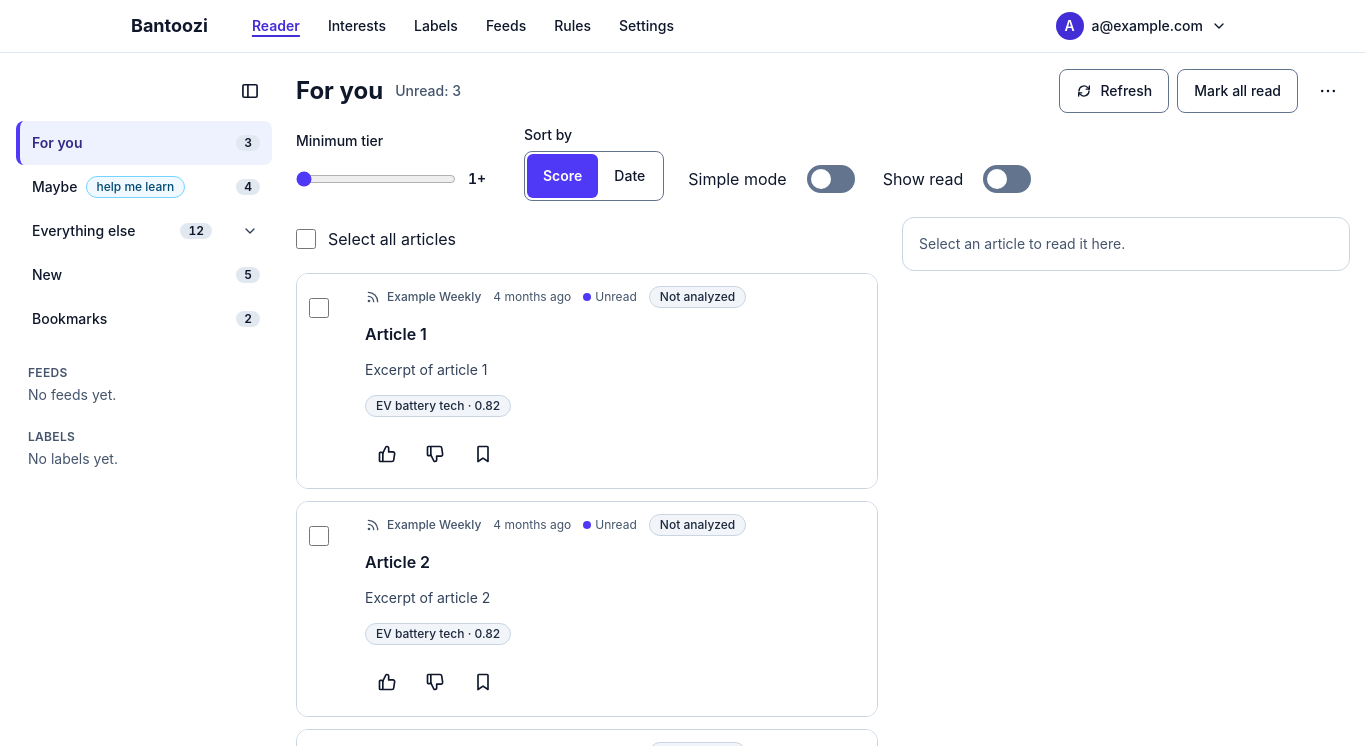
Scenario: Mark all read › confirms with the count, then marks the lane read at the digest of the lane
Click the button "Mark all read".
click(1238, 91)  # box [1177,69,1298,113]
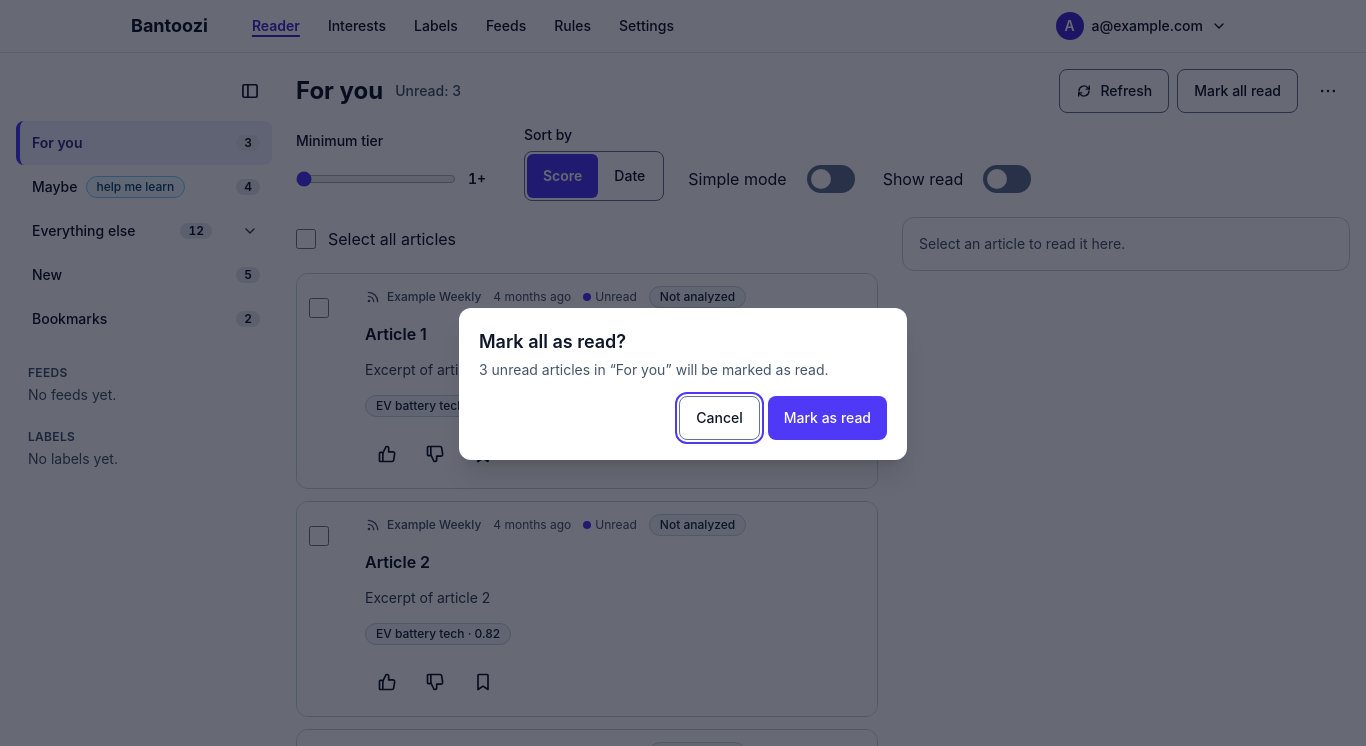
Expected: the text "3 unread articles in “For you” will be marked as read." is shown, [479,360,887,380]
Click the button "Mark as read".
click(827, 418)  # box [768,396,887,440]
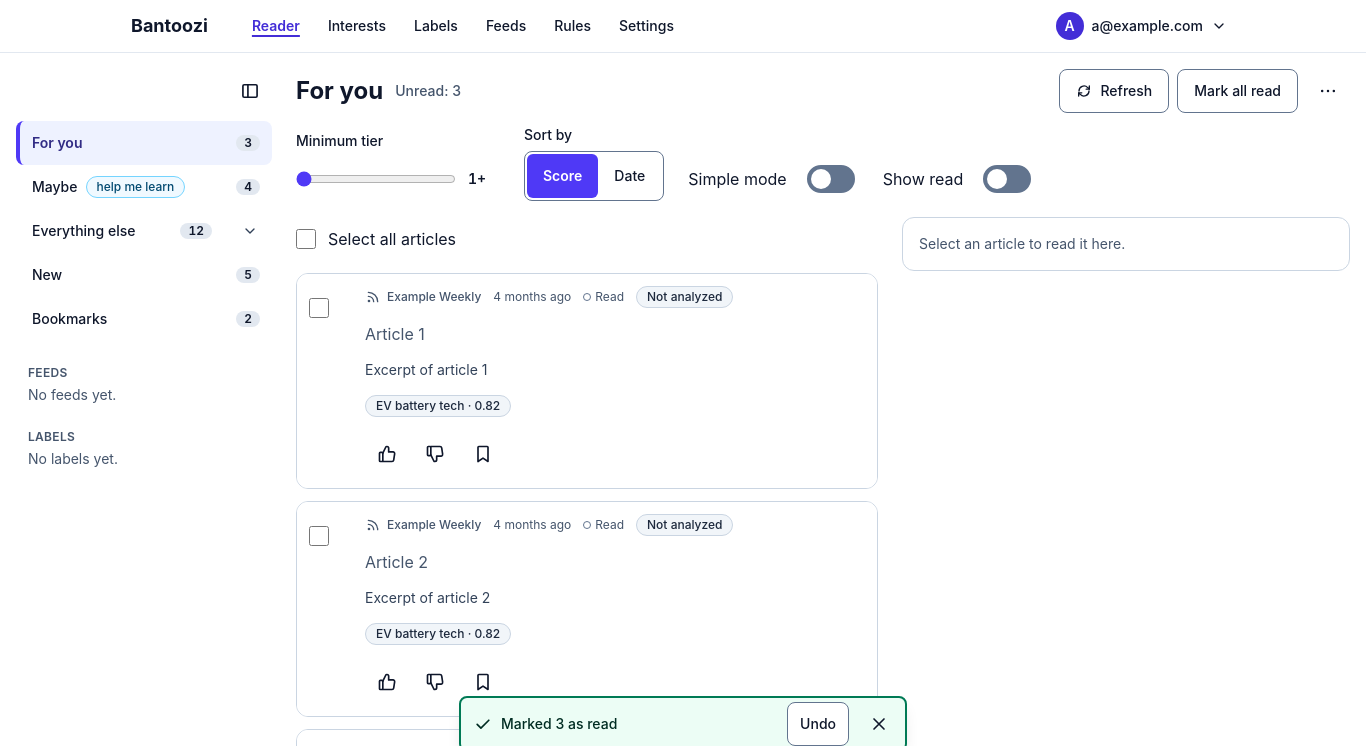
Expected: the dialog is gone
